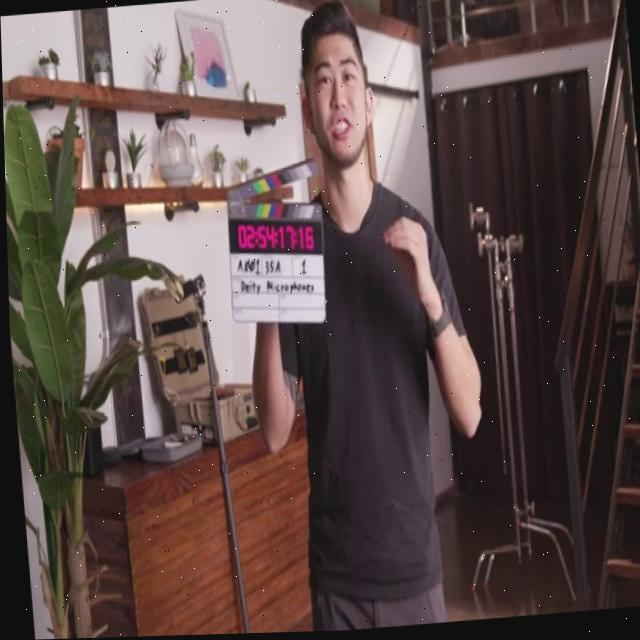Clapperboard: (221, 154, 332, 335)
